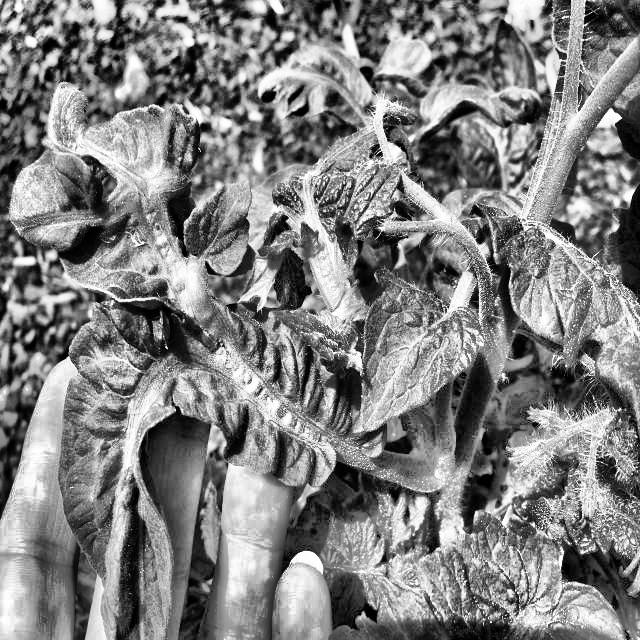plants: (15, 42, 640, 638)
